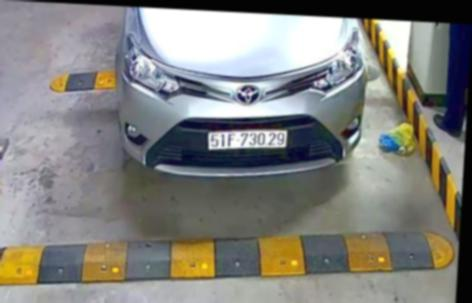License_Plate: (207, 122, 289, 155)
